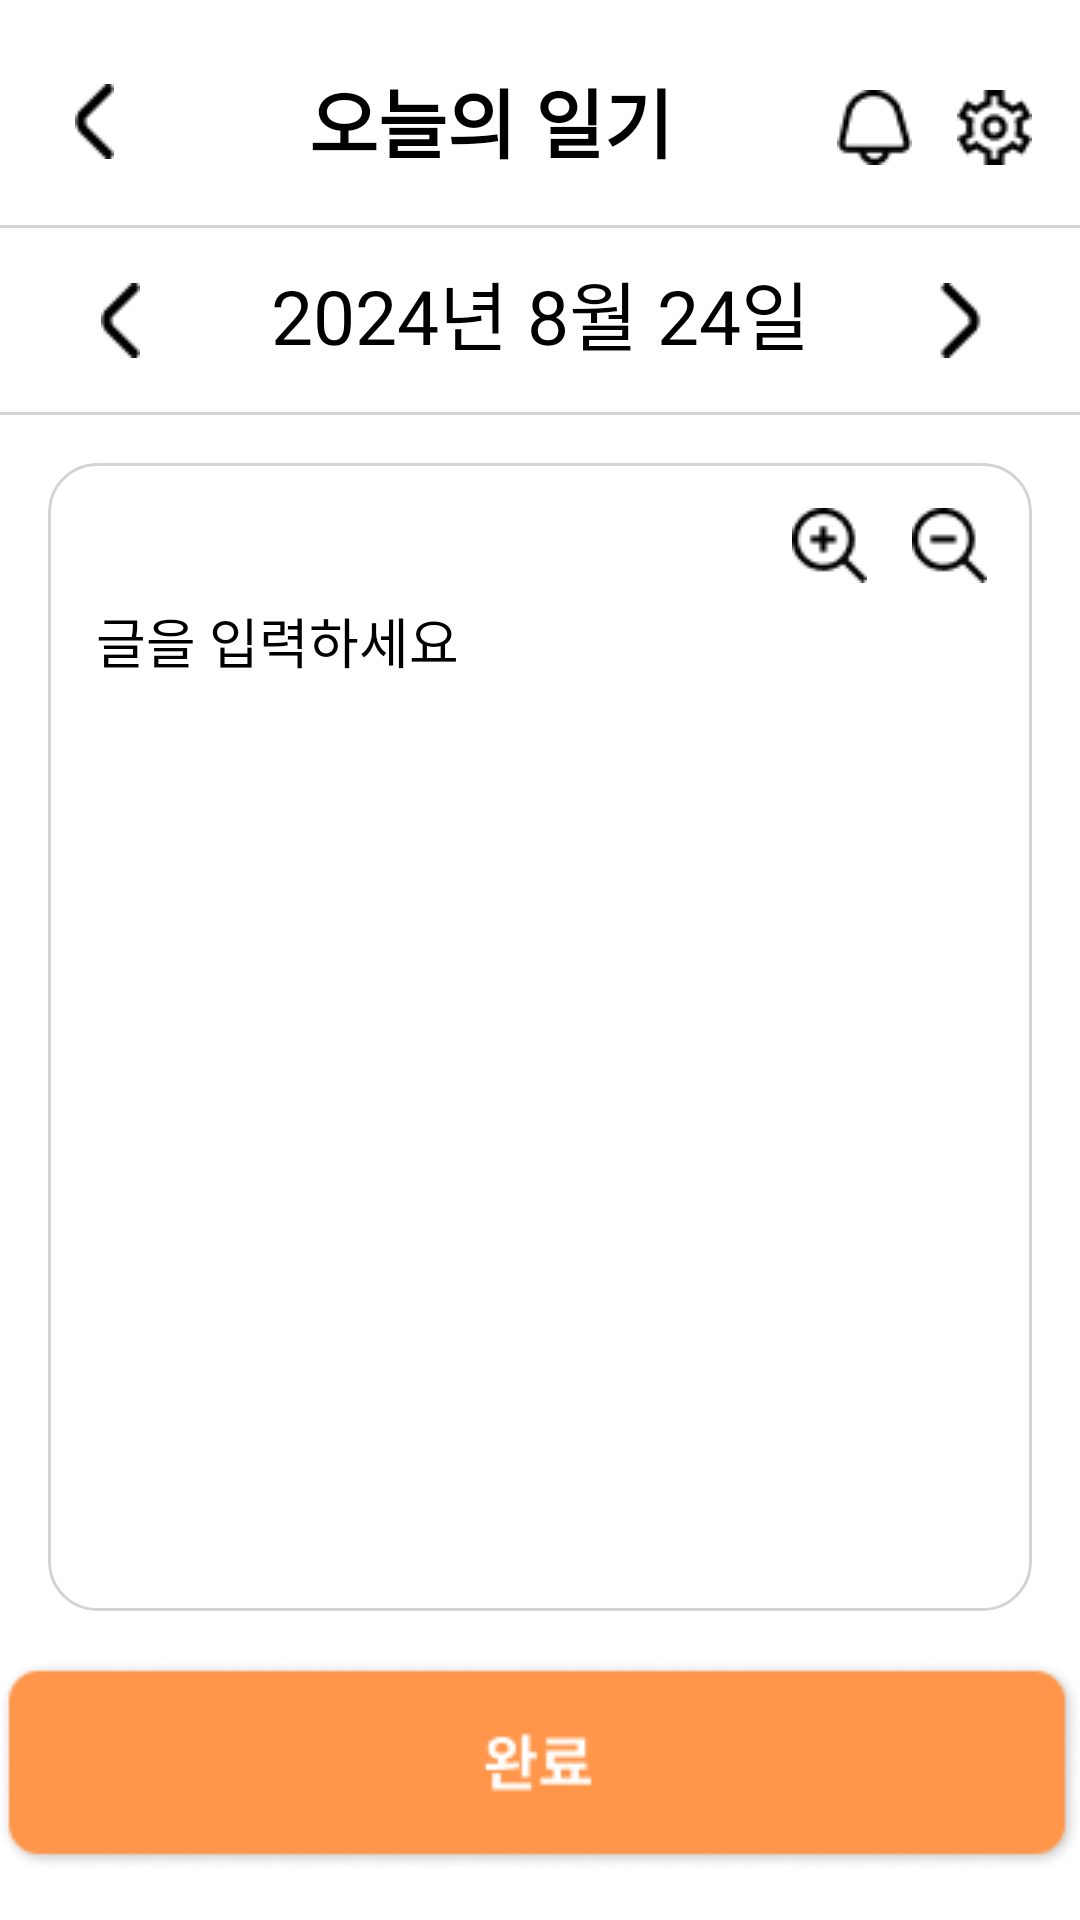

Icons on this 1080×1920 Android screen, each with the point to tap as (x,y):
bell: (874,127)
left arrow: (94,121), (120,320)
right arrow: (960,320)
setting: (994,127)
축소: (949,545)
확대: (829,545)
